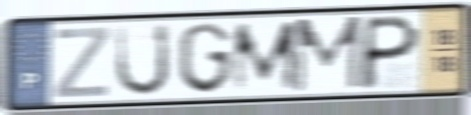G: (175, 20, 234, 96)
M: (291, 13, 365, 95), (230, 18, 302, 96)
P: (355, 12, 423, 92)
U: (113, 21, 173, 99)
Z: (51, 24, 113, 100)
